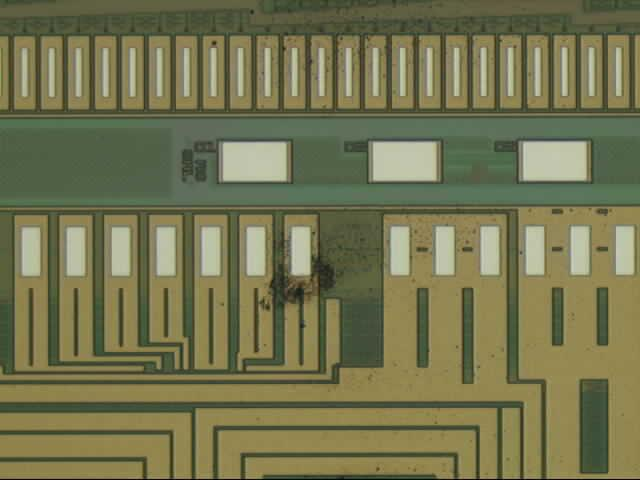PO CONTAMINATION: (257, 203, 518, 316)
